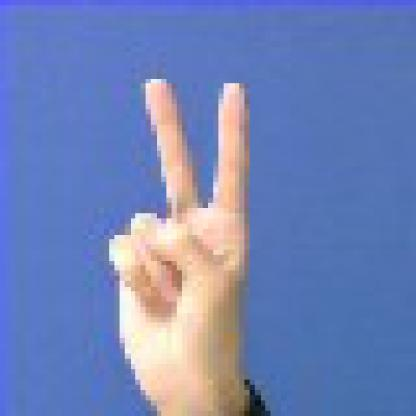two: (104, 62, 270, 411)
